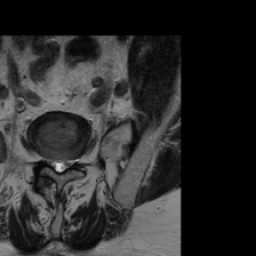CCS_severe_stenosis: (56, 153, 63, 177)
LFS_severe_stenosis: (70, 153, 76, 171)
LLS_normal: (63, 153, 70, 172)
RFS_severe_stenosis: (41, 149, 50, 170)
RLS_stenosis: (50, 152, 57, 173)
